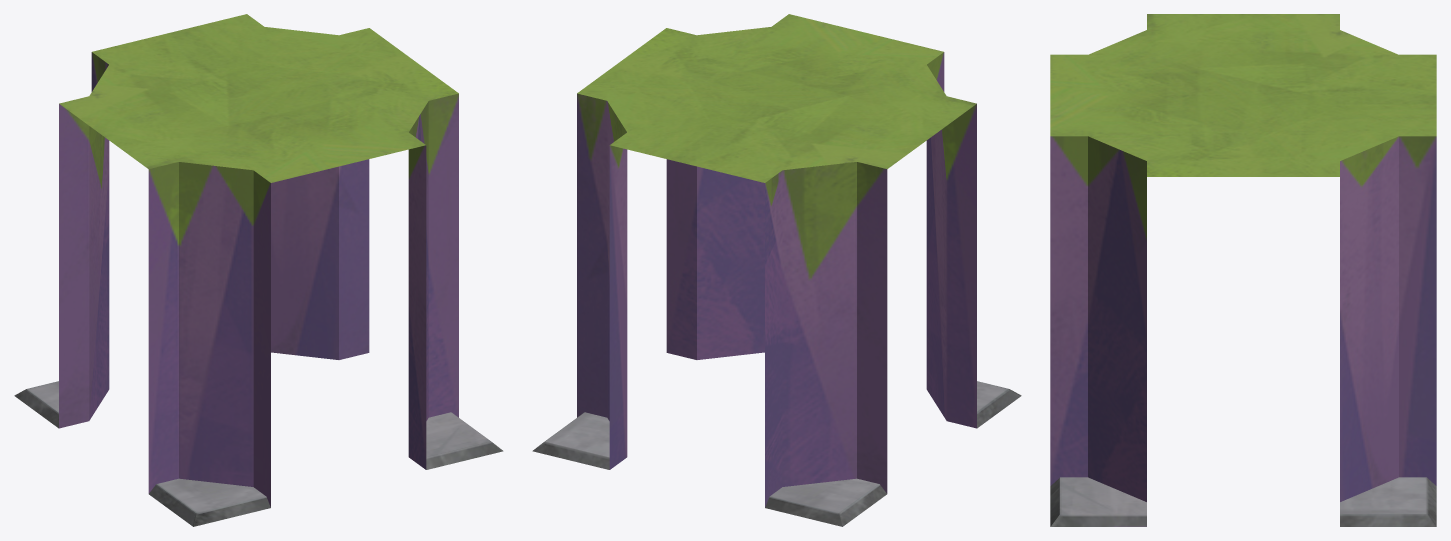
Rendered from wall_cross_shape.fbx.
3 renders of one model, left to right at view 1: azimuth 30°, elevation 25°; view 2: azimuth 150°, elevation 25°; view 3: azimuth 270°, elevation 25°, orthographic. The views are drawn at different scales.
Parts seen in each view (by area): view 1: wall_cross_shape; view 2: wall_cross_shape; view 3: wall_cross_shape.
Boxes of the visible parts, x1,y1,x2,y2 form: wall_cross_shape: [14, 14, 503, 526]; wall_cross_shape: [532, 14, 1021, 526]; wall_cross_shape: [1050, 14, 1436, 526].
Bounding box in the file's own units: 2 × 2 × 2.
